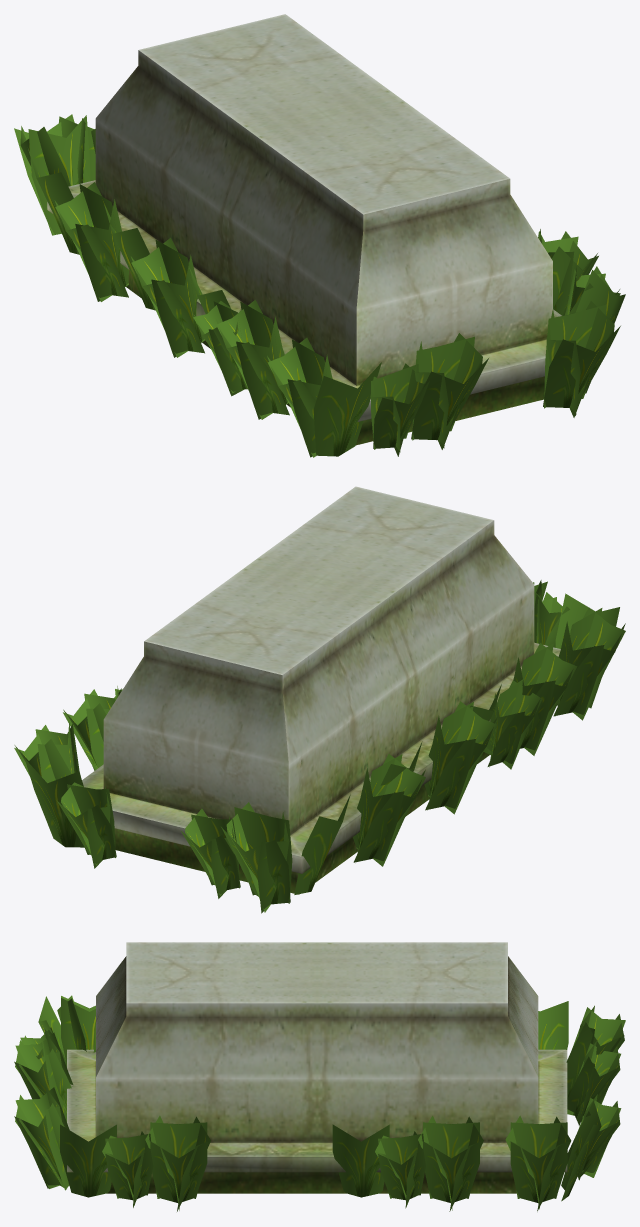
File: a_SWTomb11.glb
3 renders of one model, top to bottom at view 1: azimuth 30°, elevation 25°; view 2: azimuth 150°, elevation 25°; view 3: azimuth 270°, elevation 25°, orthographic. The views are drawn at different scales.
Parts seen in each view (by area): view 1: a_SWTomb11; view 2: a_SWTomb11; view 3: a_SWTomb11.
Part boxes in pixels (bbox=[...]): a_SWTomb11: bbox=[14, 14, 625, 457]; a_SWTomb11: bbox=[14, 486, 625, 913]; a_SWTomb11: bbox=[14, 942, 625, 1211].
Bounding box in the file's own units: 1.26 × 0.6939 × 2.16.
Materials: 2 (2 with a texture image).
